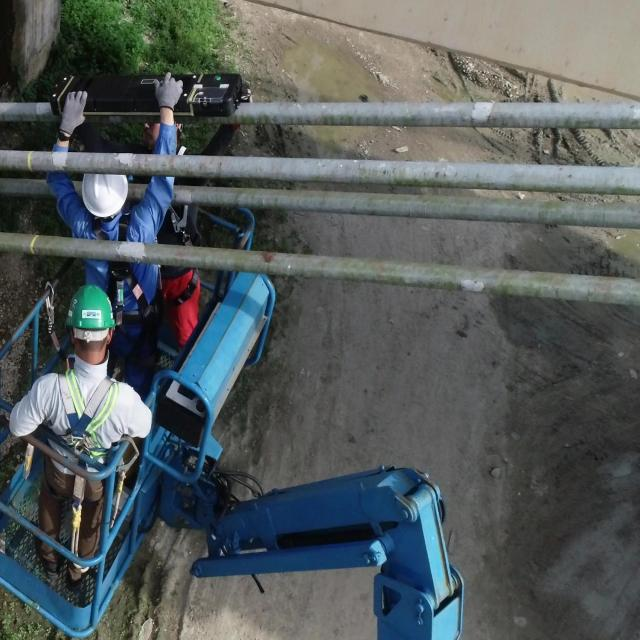corrosion: (260, 251, 276, 263)
